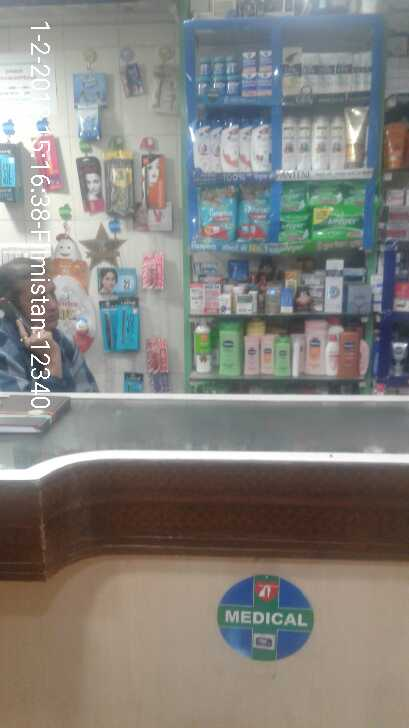vicks: (193, 51, 279, 98)
